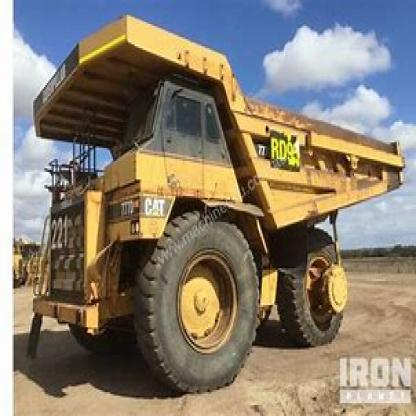dump_truck: (21, 15, 406, 390)
